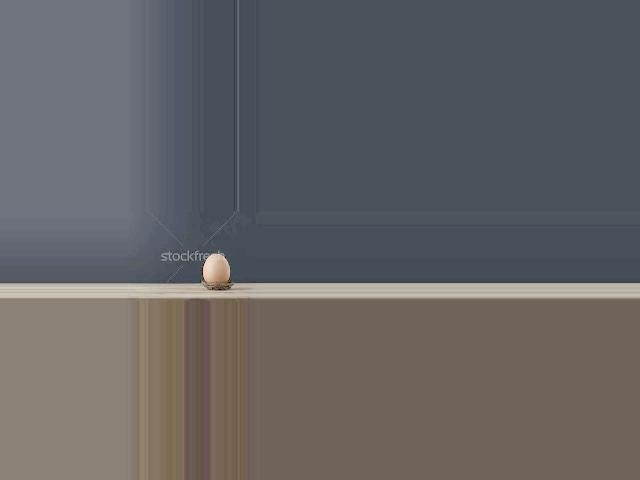egg: (203, 254, 230, 283)
